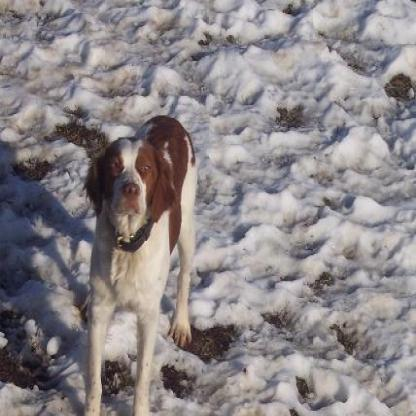Brittany_spaniel: (80, 110, 198, 414)
